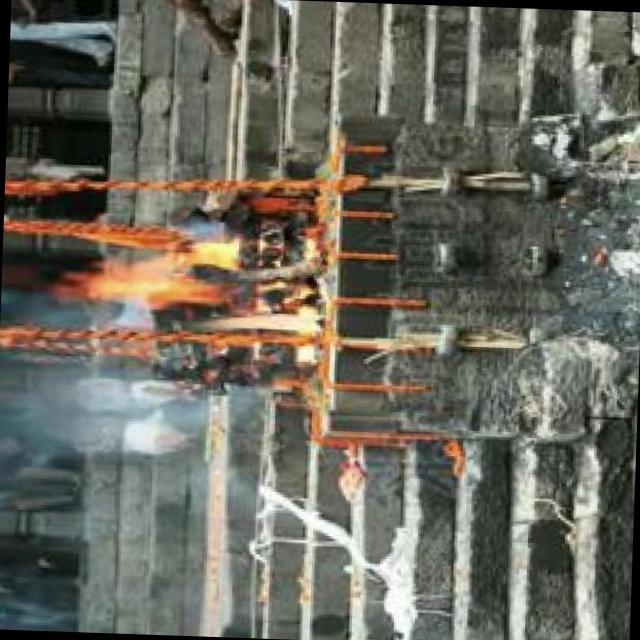Fire: (58, 229, 326, 347)
